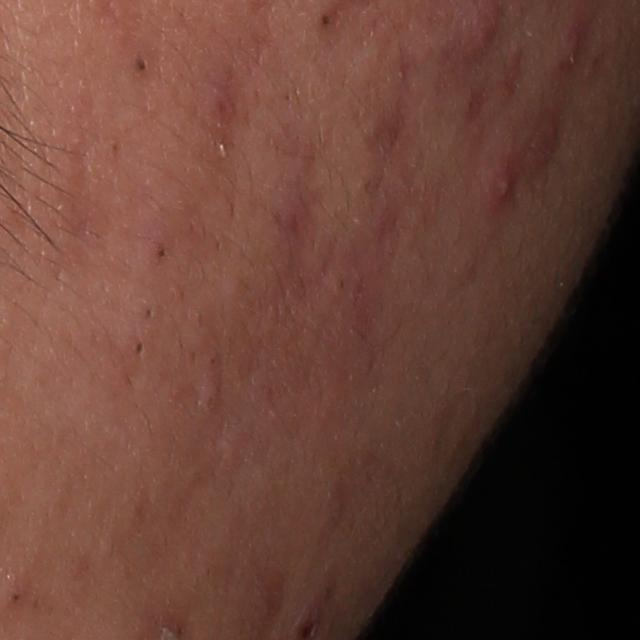comedo: (5, 585, 25, 612), (137, 302, 157, 323), (132, 54, 152, 74), (131, 340, 146, 365), (152, 244, 167, 263), (314, 12, 331, 28)
papule: (487, 159, 521, 202), (562, 13, 587, 61)
